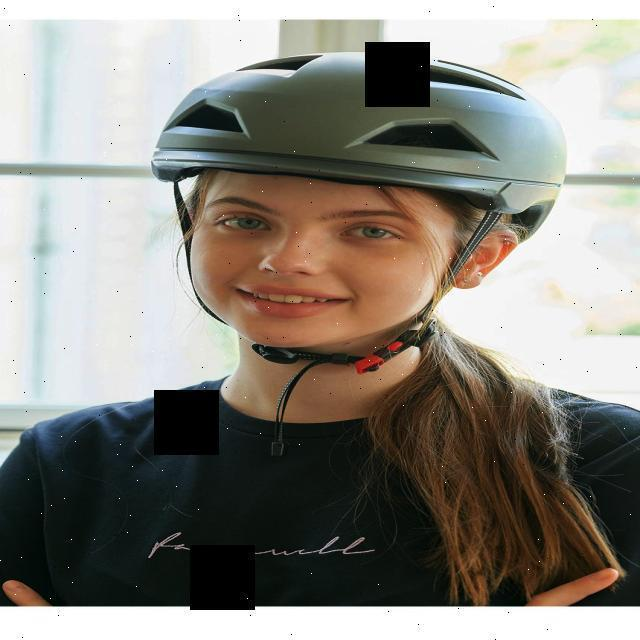helmet: (154, 46, 568, 378)
